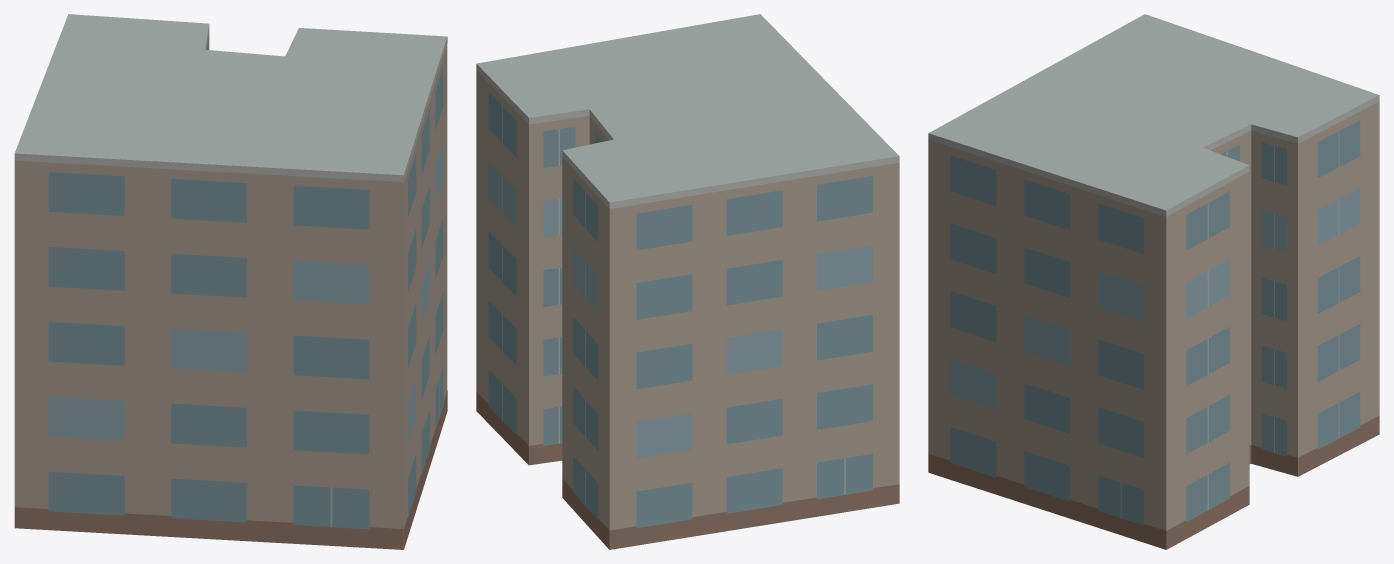
Rendered from survey-upis-32693113.glb.
3 renders of one model, left to right at view 1: azimuth 30°, elevation 25°; view 2: azimuth 150°, elevation 25°; view 3: azimuth 270°, elevation 25°, orthographic. The views are drawn at different scales.
Visible parts, largest first — view 1: survey-upis-32693113.tmp; view 2: survey-upis-32693113.tmp; view 3: survey-upis-32693113.tmp.
Boxes of the visible parts, x1,y1,x2,y2 form: survey-upis-32693113.tmp: (14, 14, 447, 549); survey-upis-32693113.tmp: (476, 14, 899, 549); survey-upis-32693113.tmp: (928, 14, 1379, 549).
Bounding box in the file's own units: 16.15 × 13 × 15.67.
